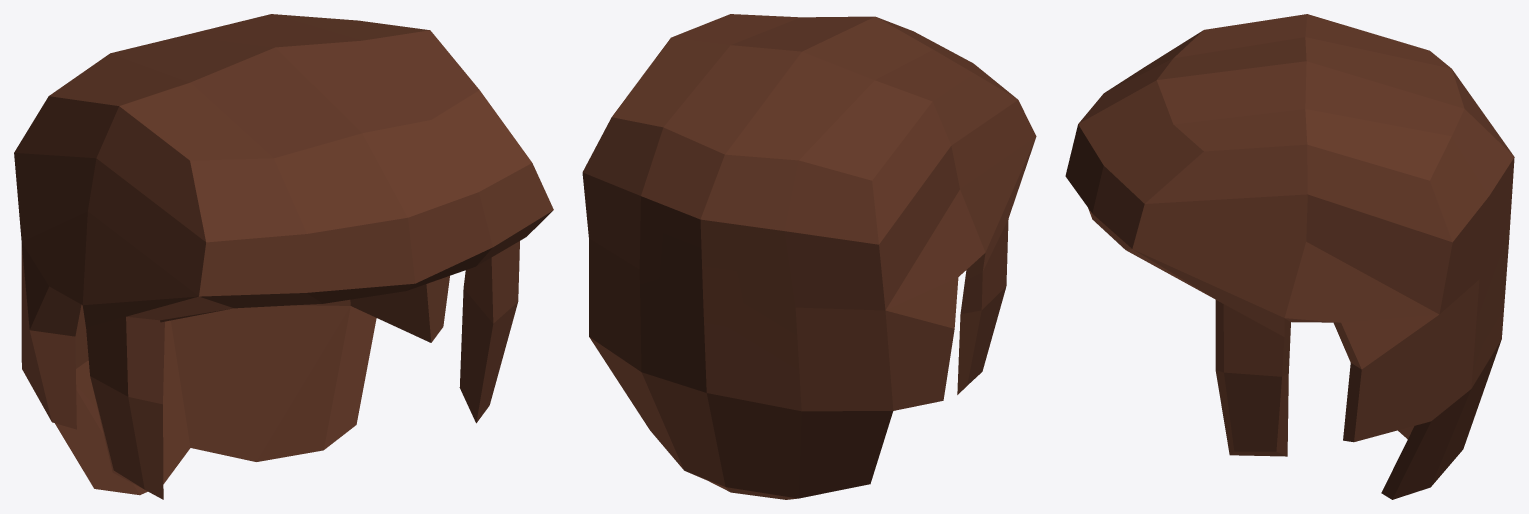
File: Hairstyle E.fbx
3 views of the same model, side by side, from view 1: azimuth 30°, elevation 25°; view 2: azimuth 150°, elevation 25°; view 3: azimuth 270°, elevation 25° (orthographic). The views are drawn at different scales.
Visible parts, largest first — view 1: Hairstyle D.001; view 2: Hairstyle D.001; view 3: Hairstyle D.001.
Part boxes in pixels (bbox=[...]): Hairstyle D.001: bbox=[14, 14, 553, 499]; Hairstyle D.001: bbox=[582, 14, 1036, 499]; Hairstyle D.001: bbox=[1065, 14, 1514, 499].
Size of the model in its own units: 22.76 by 24.14 by 24.09.
